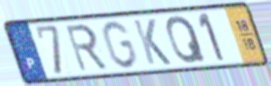1: (197, 11, 228, 64)
7: (32, 23, 66, 76)
G: (100, 19, 140, 71)
K: (131, 17, 174, 66)
Q: (165, 15, 209, 66)
R: (63, 22, 110, 74)
